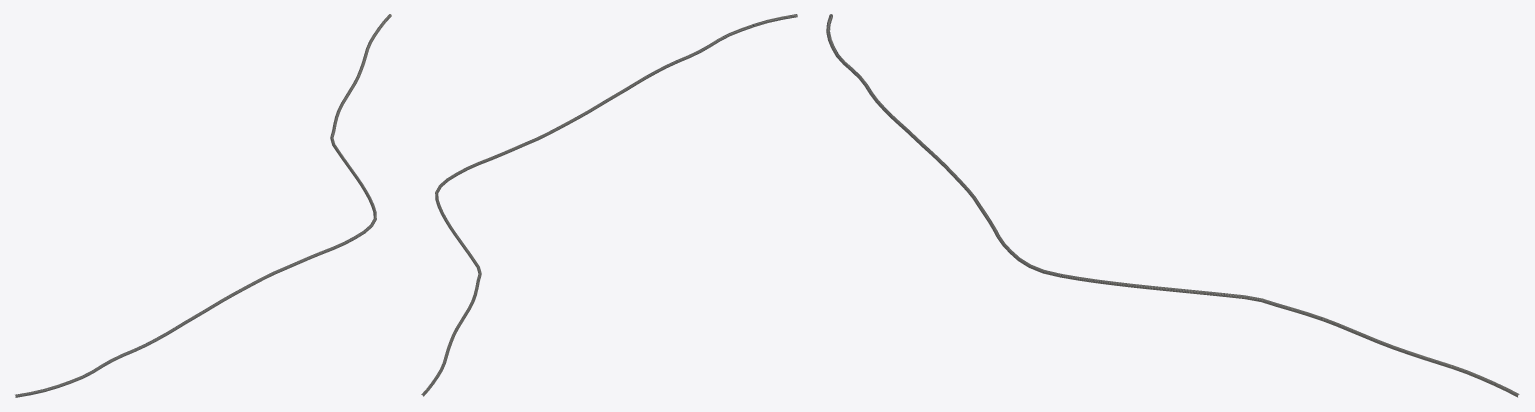
3 views of the same model, side by side, from view 1: azimuth 30°, elevation 25°; view 2: azimuth 210°, elevation 25°; view 3: azimuth 270°, elevation 25° (orthographic). The views are drawn at different scales.
Bounding box in the file's own units: 370 × 1.6 × 285.
Materials: 1 (1 with a texture image).
